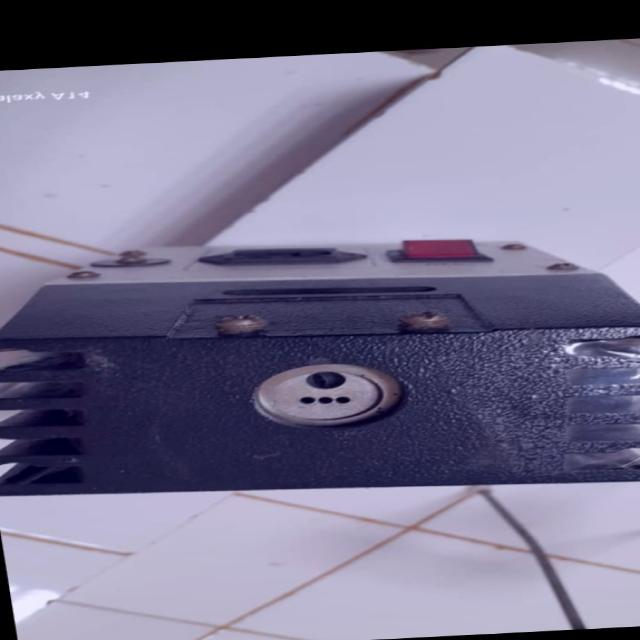Melting Point Apparatus: (0, 218, 640, 500)
